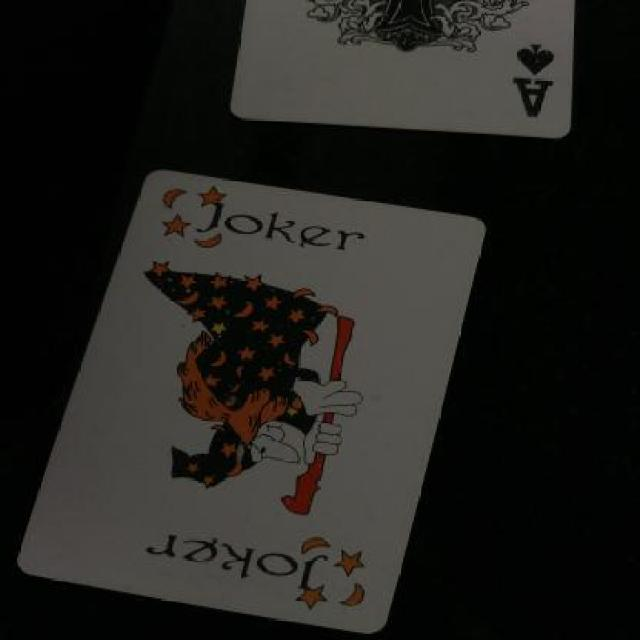BLACK JOKER: (126, 172, 422, 274), (105, 518, 402, 612)
